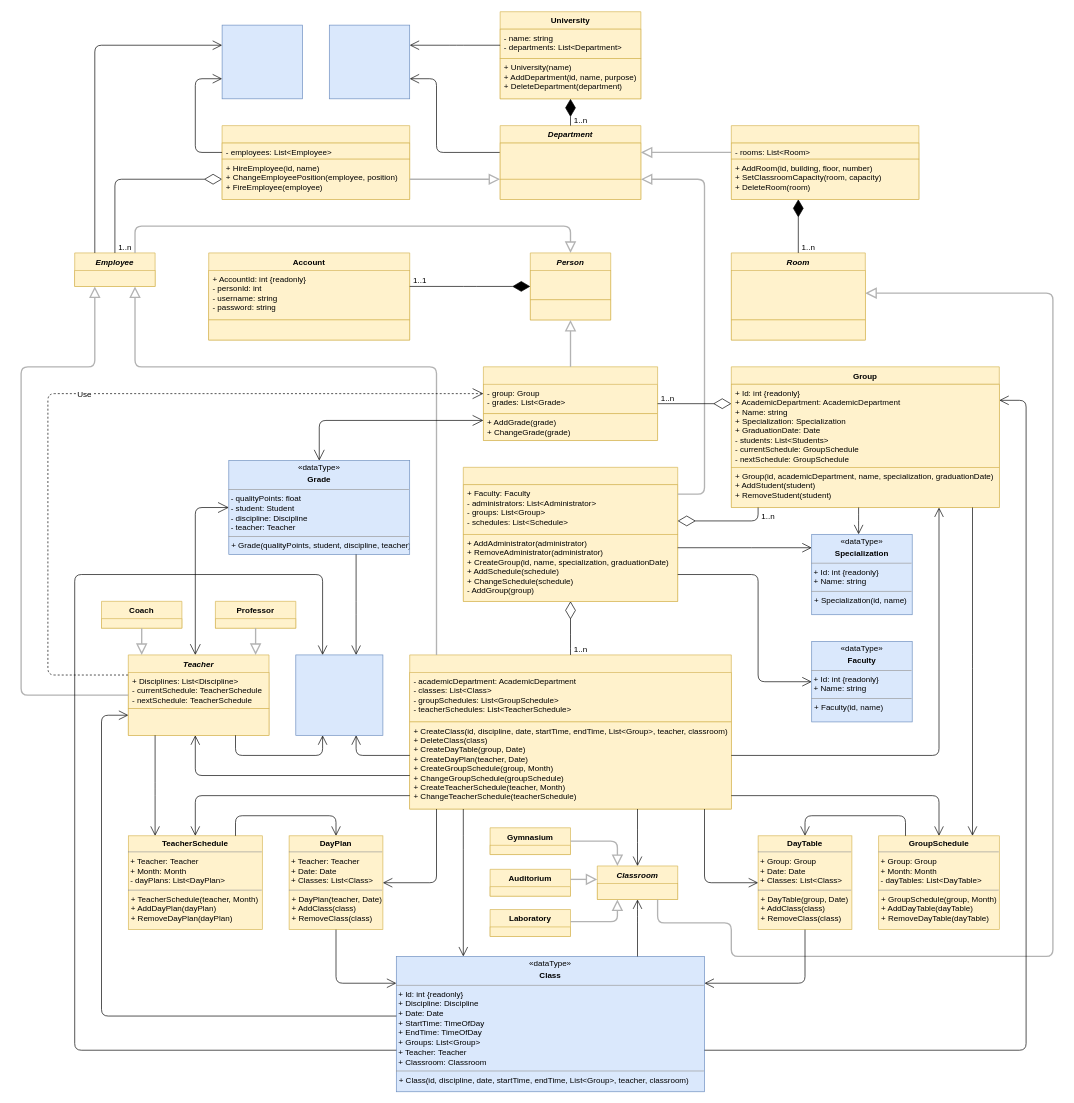
Image size: 1074x1103. Some labels were removed from this diagram. Each missing label, with the box of its shape:
+ Account(accountId, personId, username, password): (208, 319, 410, 340)
+ AddDiscipline(Discipline) + RemoveDiscipline(Discipline): (128, 708, 269, 735)
+ Capacity: int: (597, 883, 678, 899)
+ Department(id, name, purpose): (499, 179, 641, 199)
+ Id: int {readonly} + Building: int + Floor: int + Number: int: (731, 270, 865, 320)
+ Id: int {readonly} - name: string: (530, 270, 611, 300)
+ Id: int {readonly} - name: string - purpose: Purpose: (499, 142, 641, 179)
+ Person(id, name): (530, 299, 611, 320)
+ Room(id, building, floor, number): (731, 319, 865, 340)
- position: Position: (74, 270, 155, 286)
AcademicDepartment: (463, 467, 678, 601)
Adminstrator: (409, 654, 731, 809)
HumanResources: (221, 125, 410, 199)
RealEstate: (731, 125, 919, 199)
Student: (483, 366, 658, 441)
«dataType» Discipline + Id: int {readonly} + Name: string + Discipline(id, name): (295, 654, 383, 735)
«dataType» Position + Id: int {readonly} + Name: string + Position(id, name): (221, 24, 303, 99)
«dataType» Purpose + Id: int {readonly} + Name: string + Purpose(id, name): (329, 24, 410, 99)
